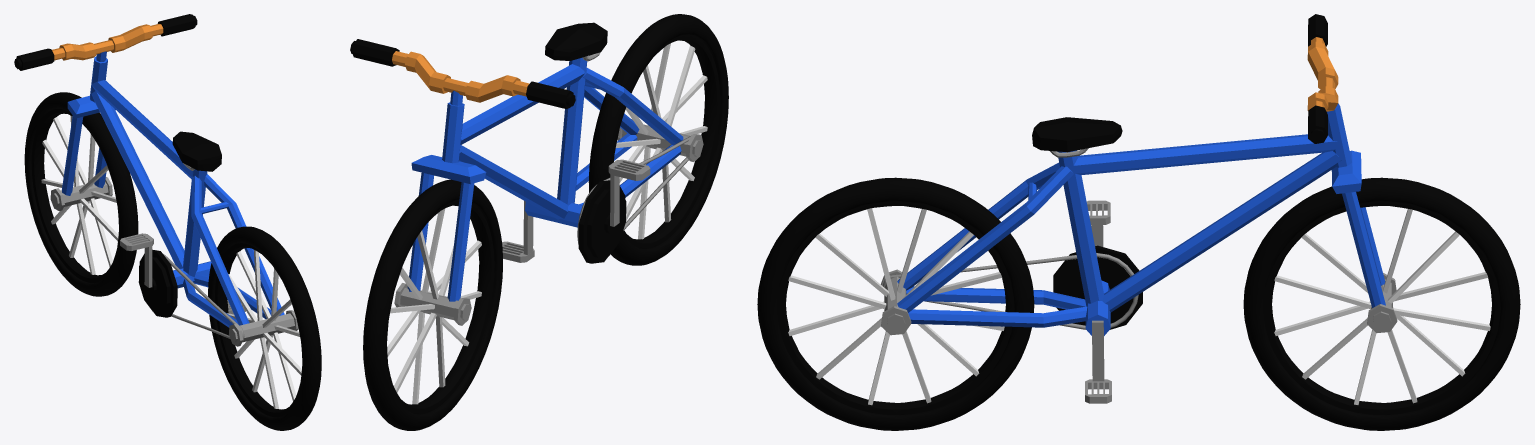
The model's file is ModifiedBicycle.fbx.
3 views of the same model, side by side, from view 1: azimuth 30°, elevation 25°; view 2: azimuth 150°, elevation 25°; view 3: azimuth 270°, elevation 25° (orthographic). The views are drawn at different scales.
Parts seen in each view (by area): view 1: RearWheel, FrontWheel, Object007, Object035, Object005, Object006, Cylinder037, Object010, Object033, Object008, Object002, Object031 (+11 smaller); view 2: FrontWheel, RearWheel, Object035, Cylinder037, Object008, Object007, Object005, Object010, Object006, Object002, Object004, Cylinder036 (+16 smaller); view 3: FrontWheel, RearWheel, Object007, Object005, Object033, Object008, Object034, Object010, Object035, Object006, Object009, Object003 (+5 smaller).
Part boxes in pixels (x1,y1,x2,y2): RearWheel: (208, 226, 321, 430); FrontWheel: (24, 92, 138, 296); Object007: (91, 91, 184, 268); Object035: (138, 249, 177, 317); Object005: (92, 80, 192, 178); Object006: (191, 176, 249, 325); Cylinder037: (52, 24, 163, 60); Object010: (172, 131, 221, 171); Object033: (204, 174, 284, 315); Object008: (183, 169, 207, 277); Object002: (62, 116, 83, 195); Object031: (240, 313, 294, 342); FrontWheel: (363, 179, 502, 430); RearWheel: (588, 14, 728, 265); Object035: (578, 180, 626, 263); Cylinder037: (392, 51, 529, 102); Object008: (557, 57, 587, 205); Object007: (459, 145, 568, 219); Object005: (460, 64, 584, 144); Object010: (545, 22, 607, 60); Object006: (582, 67, 683, 144); Object002: (447, 182, 474, 301); Object004: (411, 155, 486, 184); Cylinder036: (442, 90, 464, 163); FrontWheel: (1243, 177, 1520, 430); RearWheel: (757, 177, 1034, 430); Object007: (1102, 151, 1341, 312); Object005: (1071, 134, 1338, 174); Object033: (897, 166, 1073, 312); Object008: (1057, 150, 1103, 306); Object034: (908, 306, 1087, 327); Object010: (1032, 117, 1122, 152); Object035: (1053, 245, 1142, 329); Object006: (897, 162, 1059, 290); Object009: (906, 286, 1086, 309); Object003: (1342, 192, 1385, 307).
Size of the model in its own units: 0.5934 by 1.66 by 0.8665.
